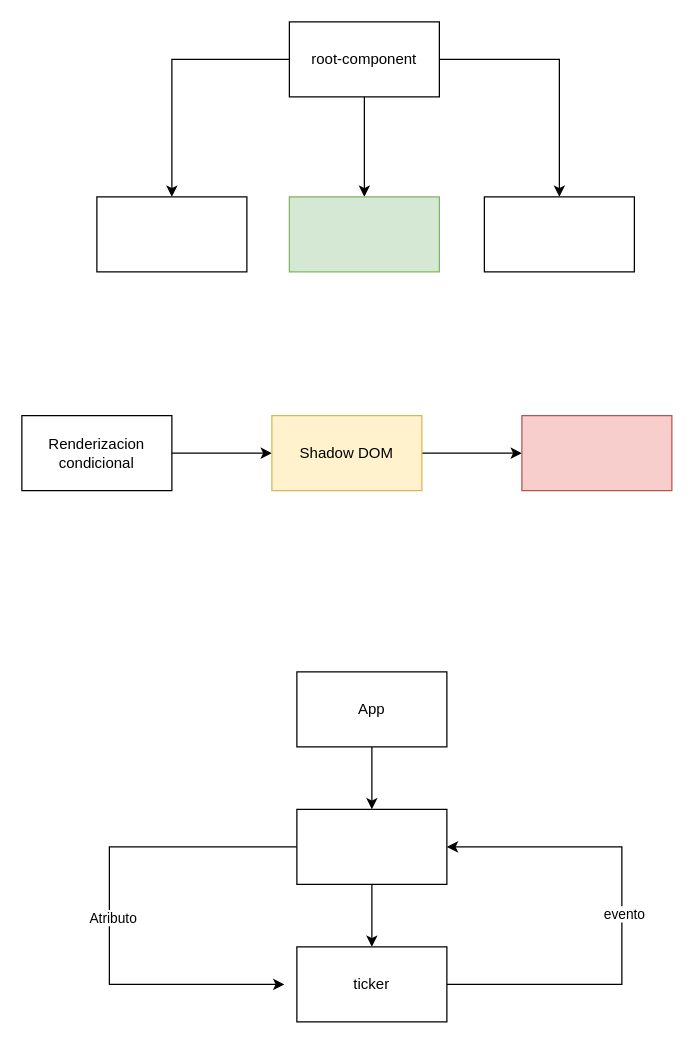
Image size: 694x1044. Some labels were removed from this diagram. The shapes that lost their labels are listed below. From the top down, each one's box as (x1, y1, x2, y2) in pixels, then its label:
(521, 414, 672, 491): BrowserDOM
(296, 808, 447, 884): ticker-list
